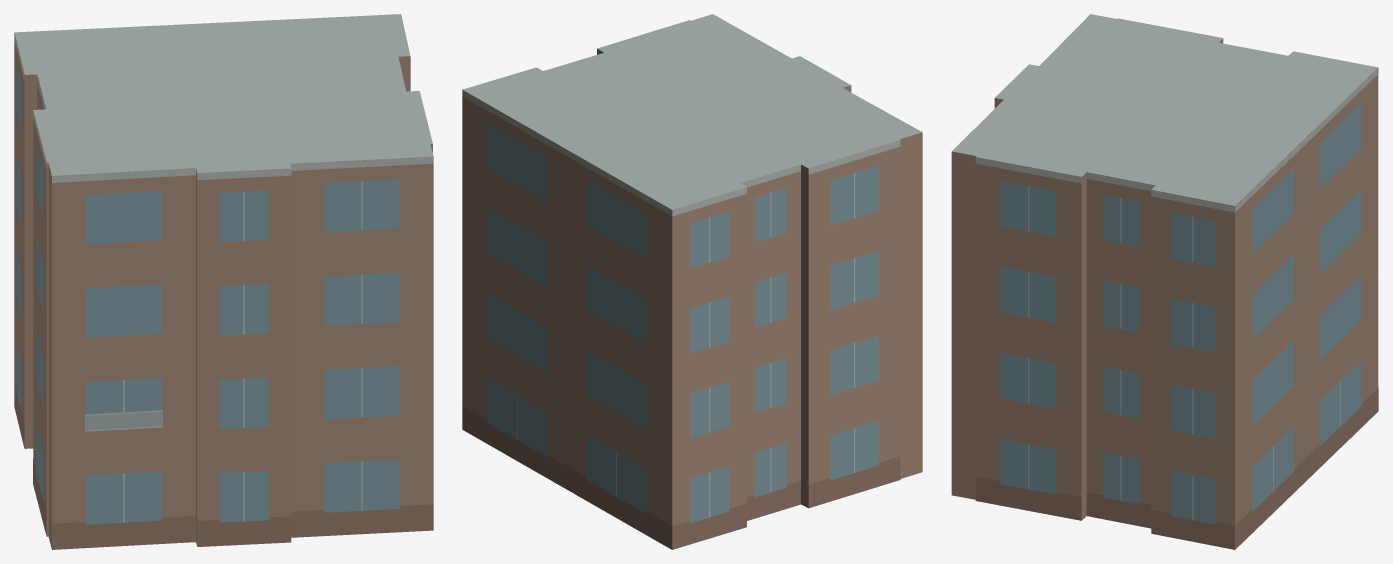
Rendered from survey-upis-32670338.glb.
The picture shows the model from 3 angles, left to right: view 1: azimuth 30°, elevation 25°; view 2: azimuth 150°, elevation 25°; view 3: azimuth 270°, elevation 25°; orthographic projection. The views are drawn at different scales.
Visible parts, largest first — view 1: survey-upis-32670338.tmp; view 2: survey-upis-32670338.tmp; view 3: survey-upis-32670338.tmp.
Part boxes in pixels (bbox=[...]): survey-upis-32670338.tmp: bbox=[14, 14, 433, 549]; survey-upis-32670338.tmp: bbox=[462, 14, 922, 549]; survey-upis-32670338.tmp: bbox=[951, 14, 1378, 549].
Size of the model in its own units: 15.22 by 12.7 by 14.3.
